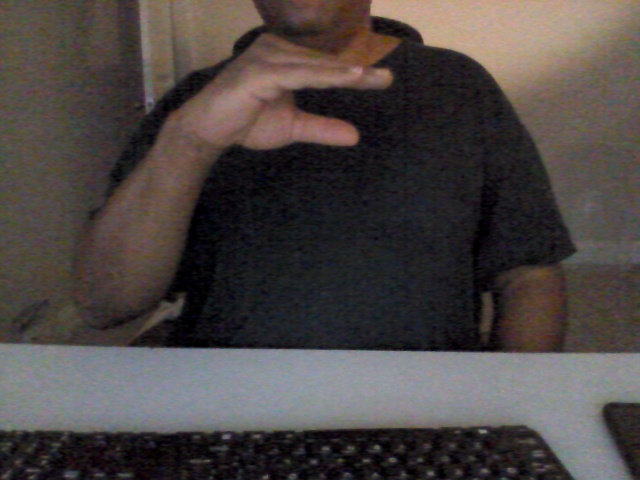no: (173, 30, 395, 167)
